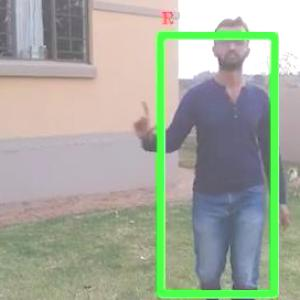land_hand: (129, 95, 165, 147)
